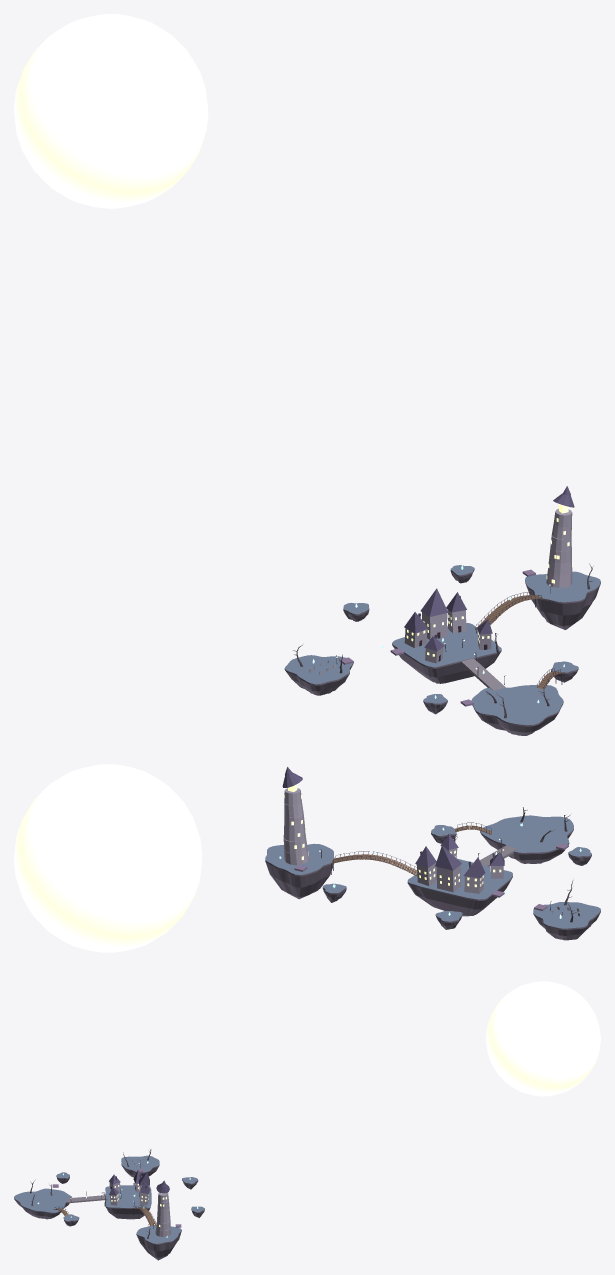
Rendered from hollow_isle.glb.
3 views of the same model, one above another, from view 1: azimuth 30°, elevation 25°; view 2: azimuth 150°, elevation 25°; view 3: azimuth 270°, elevation 25° (orthographic). The views are drawn at different scales.
Parts seen in each view (by area): view 1: Moon, Island_Landing-col, Island_Plaza-col, Island_TowerIsle-col, Tower-col, Island_Graveyard-col, House_4-col; view 2: Moon, Island_Landing-col, Island_TowerIsle-col, Island_Plaza-col, Tower-col, Island_Graveyard-col, House_4-col, House_1-col, House_0-col, Bridge_TowerBridge-col, Island_IsletD-col, House_2-col (+4 smaller); view 3: Moon, Island_Landing-col, Island_Plaza-col, Island_TowerIsle-col, Tower-col, Island_Graveyard-col.
Boxes of the visible parts, <box> form: Moon: <box>14,14,208,208</box>; Island_Landing-col: <box>471,684,563,735</box>; Island_Plaza-col: <box>392,623,501,683</box>; Island_TowerIsle-col: <box>525,571,600,629</box>; Tower-col: <box>546,486,574,587</box>; Island_Graveyard-col: <box>284,655,353,695</box>; House_4-col: <box>420,588,448,639</box>; Moon: <box>14,764,202,952</box>; Island_Landing-col: <box>480,815,573,863</box>; Island_TowerIsle-col: <box>265,843,334,899</box>; Island_Plaza-col: <box>407,858,512,916</box>; Tower-col: <box>282,767,309,865</box>; Island_Graveyard-col: <box>533,902,600,940</box>; House_4-col: <box>435,845,461,892</box>; House_1-col: <box>415,846,436,885</box>; House_0-col: <box>463,857,485,893</box>; Bridge_TowerBridge-col: <box>331,854,417,875</box>; Island_IsletD-col: <box>435,911,462,929</box>; House_2-col: <box>490,852,504,878</box>; Moon: <box>486,981,600,1096</box>; Island_Landing-col: <box>14,1188,72,1219</box>; Island_Plaza-col: <box>105,1185,151,1219</box>; Island_TowerIsle-col: <box>136,1225,181,1260</box>; Tower-col: <box>155,1180,170,1236</box>; Island_Graveyard-col: <box>121,1155,159,1177</box>.
Size of what is drawn, in the model's own units: 114 by 136 by 306.
